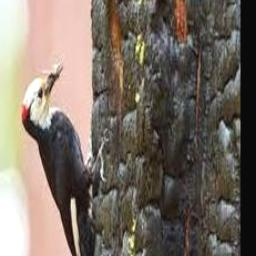Woodpecker: (23, 59, 109, 256)
